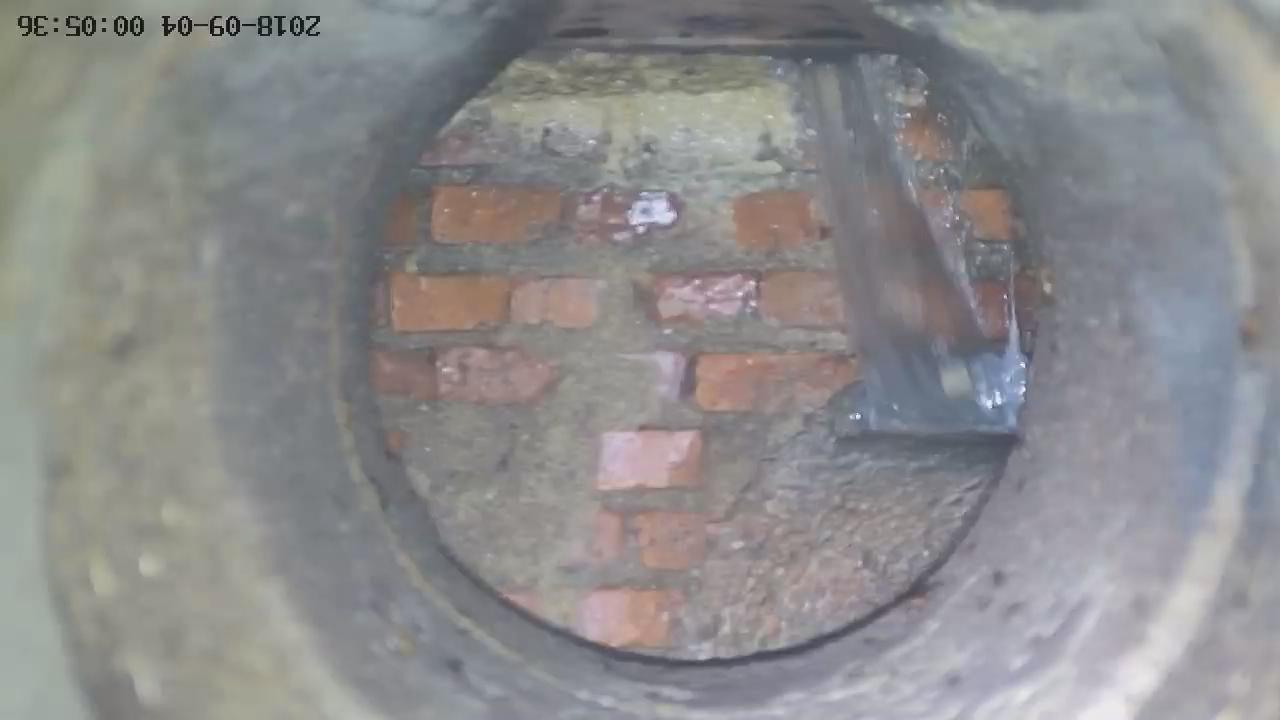CQBG: (367, 52, 1000, 660), (885, 64, 1019, 349)
